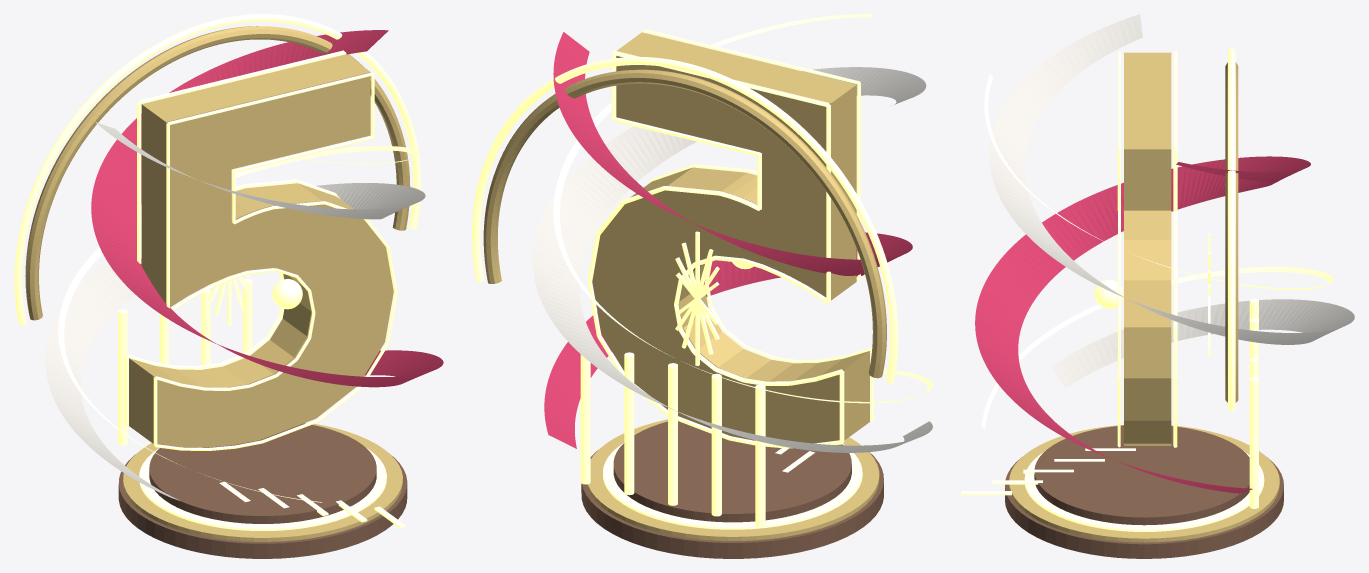
Rendered from five.glb.
The picture shows the model from 3 angles, left to right: view 1: azimuth 30°, elevation 25°; view 2: azimuth 150°, elevation 25°; view 3: azimuth 270°, elevation 25°; orthographic projection. The views are drawn at different scales.
Parts seen in each view (by area): view 1: HERO_GoldenFive, BASE_Center, RIBBON_RedUnion, RIBBON_WhiteUnion, PORTAL_Halo_0, PORTAL_Halo_1, BASE_DarkPlinth, BASE_GoldLedge, BASE_Inlay, RIBBON_ThinGold, YEAR_1_Pillar, HERO_Outline_0_000 (+7 smaller); view 2: HERO_GoldenFive, RIBBON_WhiteUnion, BASE_Center, RIBBON_RedUnion, PORTAL_Halo_0, PORTAL_Halo_1, BASE_DarkPlinth, BASE_GoldLedge, BASE_Inlay, RIBBON_ThinGold, YEAR_2_Pillar, YEAR_1_Pillar (+8 smaller); view 3: HERO_GoldenFive, RIBBON_WhiteUnion, RIBBON_RedUnion, BASE_Center, BASE_GoldLedge, BASE_DarkPlinth, PORTAL_Halo_1, RIBBON_ThinGold, PORTAL_Halo_0, BASE_Inlay, YEAR_5_Pillar, IGNITION_GoldenCore (+1 smaller).
Part boxes in pixels (<box>): HERO_GoldenFive: <box>129,54,393,447</box>; BASE_Center: <box>149,423,376,523</box>; RIBBON_RedUnion: <box>91,30,443,387</box>; RIBBON_WhiteUnion: <box>45,122,425,500</box>; PORTAL_Halo_0: <box>25,26,410,320</box>; PORTAL_Halo_1: <box>14,14,421,325</box>; BASE_DarkPlinth: <box>118,454,407,558</box>; BASE_GoldLedge: <box>123,422,402,541</box>; BASE_Inlay: <box>139,448,386,530</box>; RIBBON_ThinGold: <box>58,146,419,502</box>; YEAR_1_Pillar: <box>118,309,127,445</box>; HERO_Outline_0_000: <box>138,50,344,104</box>; HERO_GoldenFive: <box>592,32,869,443</box>; RIBBON_WhiteUnion: <box>532,67,932,452</box>; BASE_Center: <box>613,421,851,522</box>; RIBBON_RedUnion: <box>544,32,912,448</box>; PORTAL_Halo_0: <box>483,69,886,378</box>; PORTAL_Halo_1: <box>472,57,898,383</box>; BASE_DarkPlinth: <box>581,450,883,558</box>; BASE_GoldLedge: <box>586,419,879,540</box>; BASE_Inlay: <box>603,443,862,529</box>; RIBBON_ThinGold: <box>553,14,932,403</box>; YEAR_2_Pillar: <box>711,373,721,516</box>; YEAR_1_Pillar: <box>755,384,765,526</box>; HERO_GoldenFive: <box>1124,52,1171,445</box>; RIBBON_WhiteUnion: <box>989,14,1354,388</box>; RIBBON_RedUnion: <box>975,156,1310,493</box>; BASE_Center: <box>1034,425,1249,525</box>; BASE_GoldLedge: <box>1009,425,1279,542</box>; BASE_DarkPlinth: <box>1005,457,1283,558</box>; PORTAL_Halo_1: <box>1228,48,1235,410</box>; RIBBON_ThinGold: <box>981,74,1333,428</box>; PORTAL_Halo_0: <box>1225,62,1238,402</box>; BASE_Inlay: <box>1024,451,1264,531</box>; YEAR_5_Pillar: <box>1249,377,1258,508</box>; IGNITION_GoldenCore: <box>1094,279,1123,308</box>.
Bounding box in the file's own units: 3.21 × 3.37 × 2.79.
